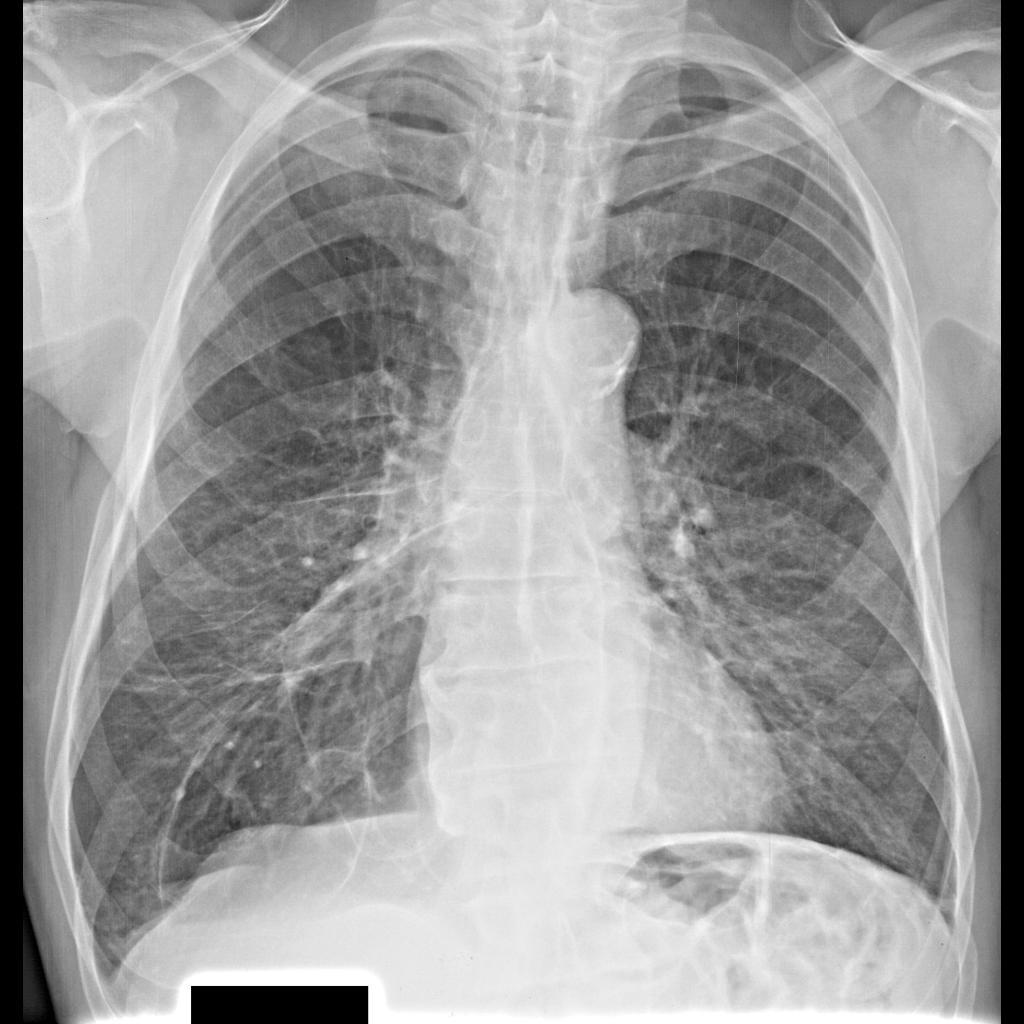Nodule: (883, 656, 924, 698)
